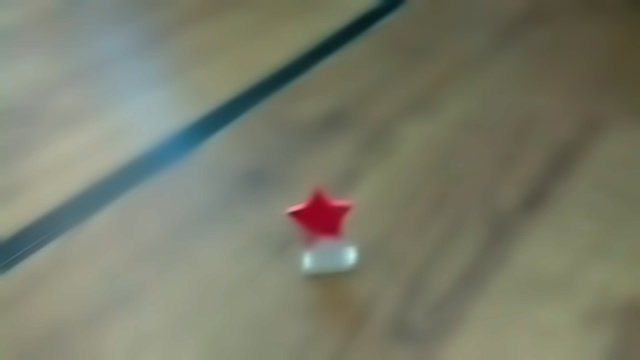star: (269, 183, 368, 284)
